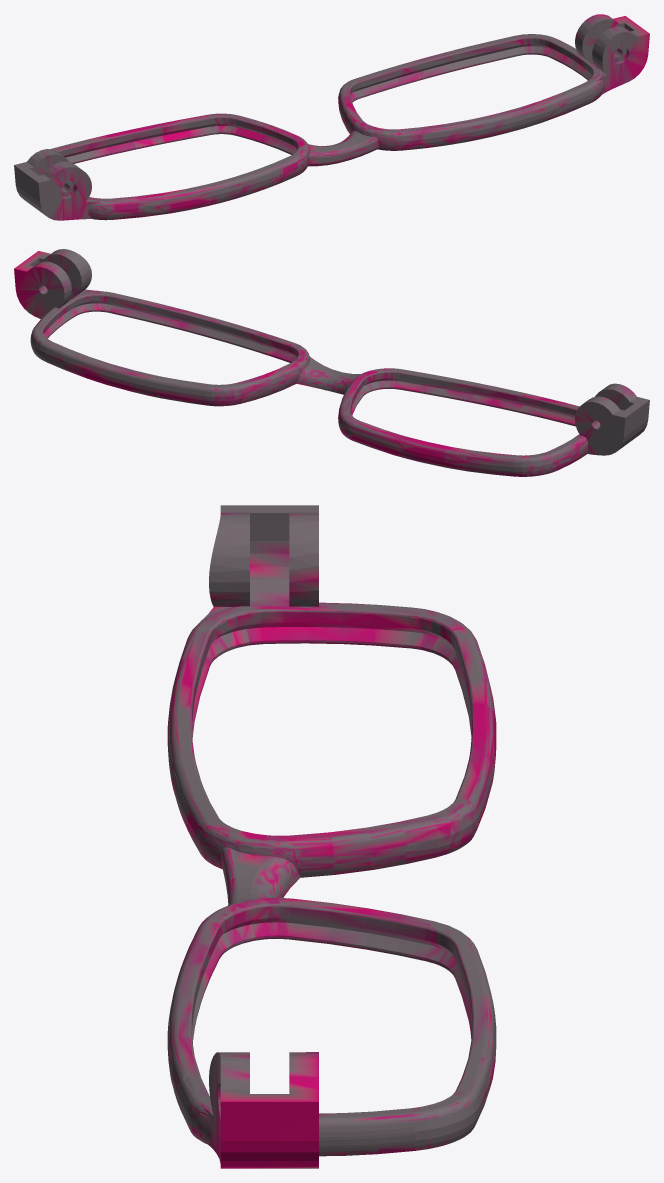
File: eyeglass1_final100.obj
3 renders of one model, top to bottom at view 1: azimuth 30°, elevation 25°; view 2: azimuth 150°, elevation 25°; view 3: azimuth 270°, elevation 25°, orthographic. The views are drawn at different scales.
Size of the model in its own units: 1.97 by 0.2013 by 0.4583.
